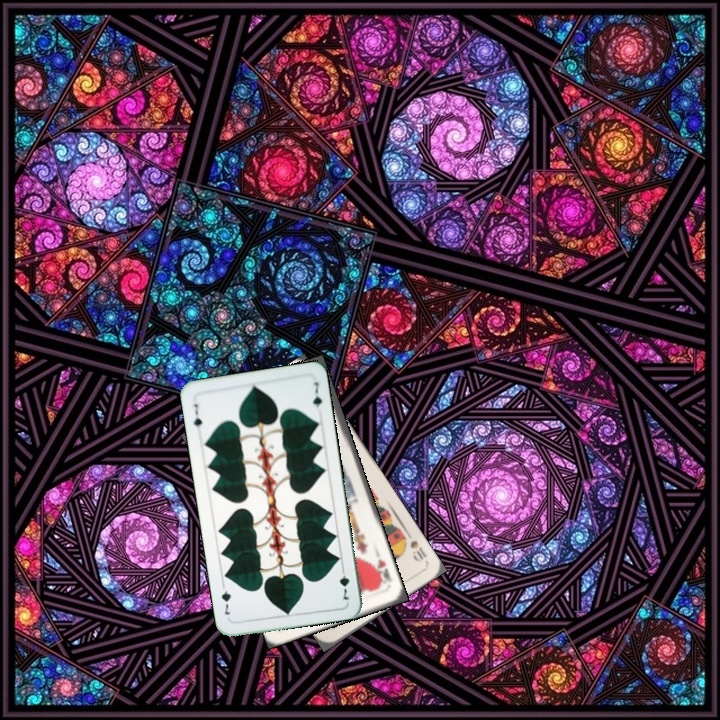G7: (335, 563, 352, 604), (189, 400, 205, 430)
HK: (370, 555, 394, 588)
S10: (398, 532, 430, 564)
